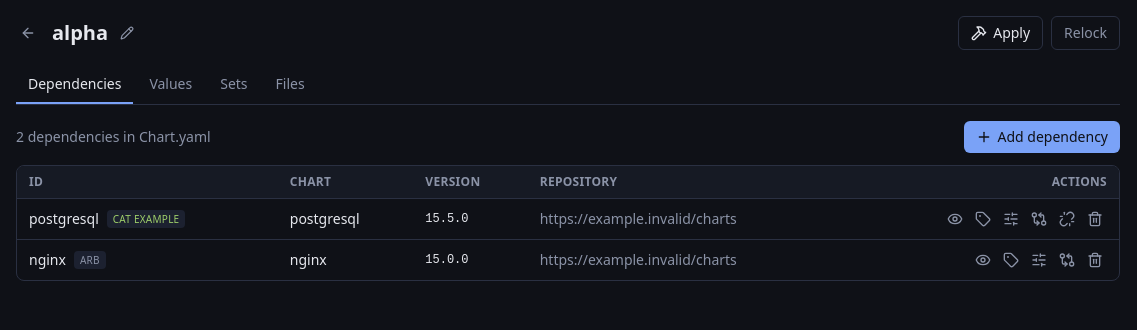
Scenario: Instance page › surfaces a refused rename and stays put
The image size is (1137, 330).
expect the text "2 dependencies in Chart.yaml" is shown: met, box left=16, top=127, right=211, bottom=147
Click the button titled "Rename": {"x": 127, "y": 33} left=116, top=22, right=138, bottom=44
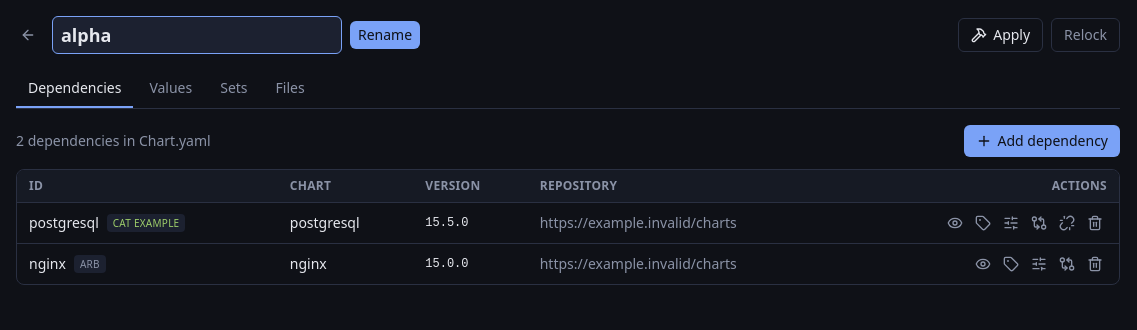
Replace the text in the field showing "alpha" with "legacy": {"x": 197, "y": 35} left=52, top=16, right=342, bottom=54
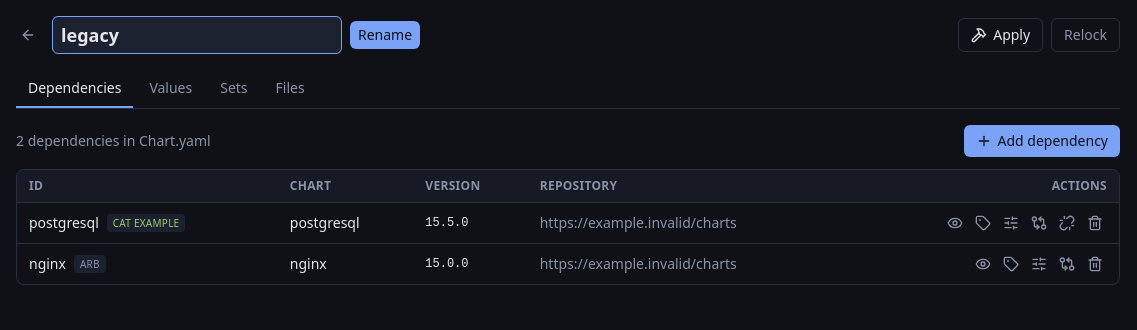
Click the button "Rename": {"x": 385, "y": 35} left=350, top=21, right=420, bottom=49
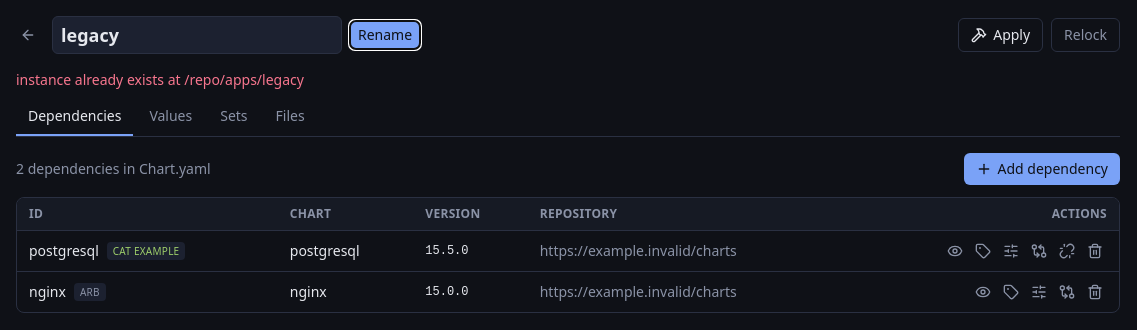
expect the text "instance already exists at /repo/apps/legacy" is shown: met, box left=16, top=70, right=304, bottom=89
